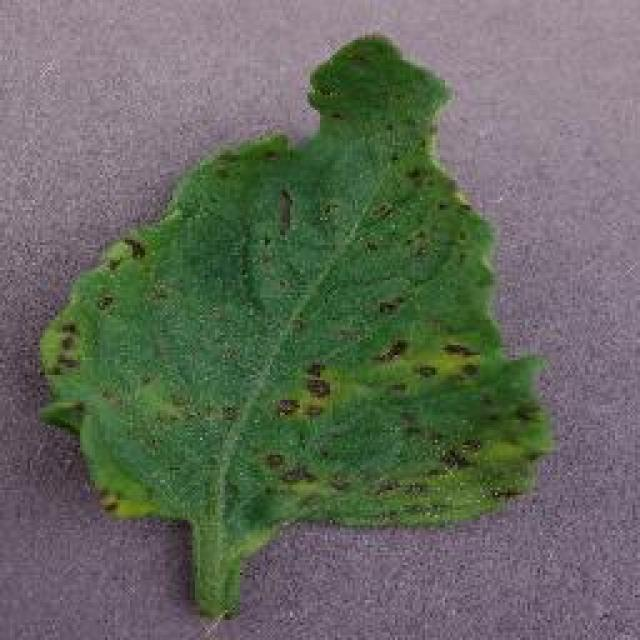Tomato Septoria spot leaf: (35, 34, 557, 534)
